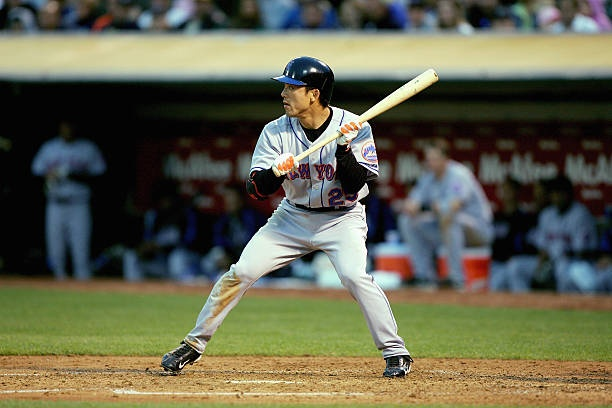bita: (287, 69, 439, 165)
